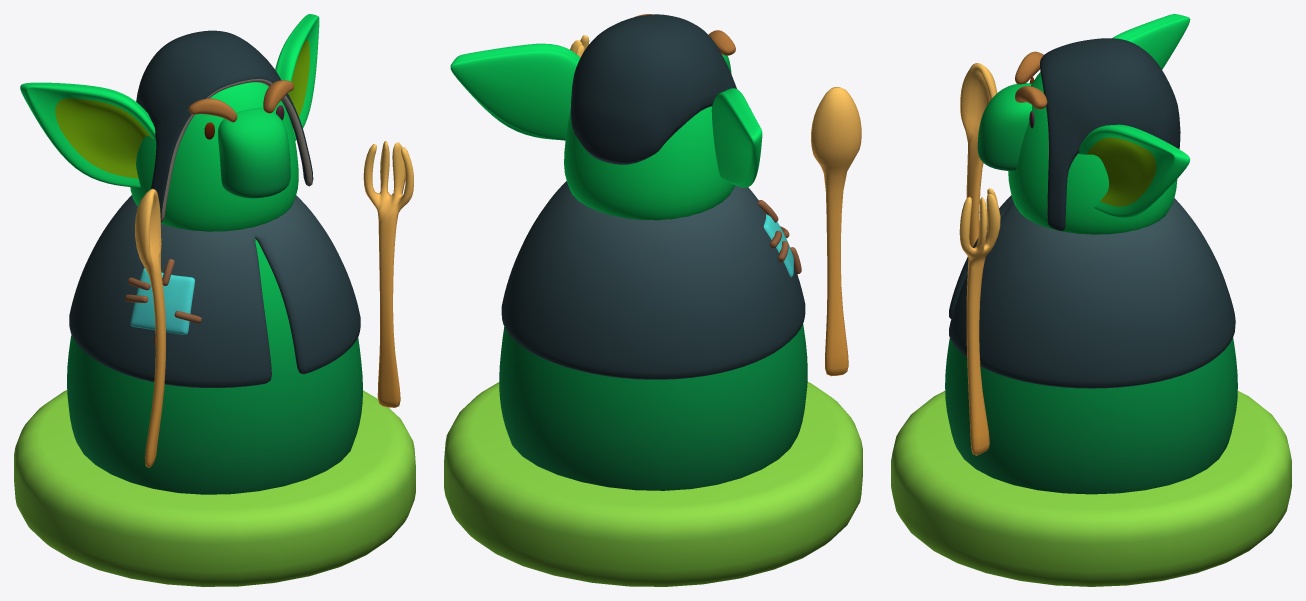
File: Goblin Scullion.fbx
The picture shows the model from 3 angles, left to right: view 1: azimuth 30°, elevation 25°; view 2: azimuth 150°, elevation 25°; view 3: azimuth 270°, elevation 25°; orthographic projection. The views are drawn at different scales.
Parts seen in each view (by area): view 1: goblin_Scullion_Body_GEO, goblin_Scullion_Stand_GEO, goblin_Scullion_Weapons_GEO.001, goblin_Scullion_Weapons_GEO; view 2: goblin_Scullion_Body_GEO, goblin_Scullion_Stand_GEO, goblin_Scullion_Weapons_GEO; view 3: goblin_Scullion_Body_GEO, goblin_Scullion_Stand_GEO, goblin_Scullion_Weapons_GEO.001, goblin_Scullion_Weapons_GEO.
Part boxes in pixels (x1,y1,x2,y2): goblin_Scullion_Body_GEO: [20, 14, 362, 494]; goblin_Scullion_Stand_GEO: [14, 390, 415, 586]; goblin_Scullion_Weapons_GEO.001: [363, 141, 413, 407]; goblin_Scullion_Weapons_GEO: [135, 188, 165, 467]; goblin_Scullion_Body_GEO: [450, 14, 807, 490]; goblin_Scullion_Stand_GEO: [444, 382, 862, 586]; goblin_Scullion_Weapons_GEO: [811, 87, 861, 376]; goblin_Scullion_Body_GEO: [945, 14, 1237, 494]; goblin_Scullion_Stand_GEO: [891, 391, 1291, 586]; goblin_Scullion_Weapons_GEO.001: [959, 188, 1000, 455]; goblin_Scullion_Weapons_GEO: [960, 63, 997, 247].
Size of the model in its own units: 79.95 by 102 by 79.95.
